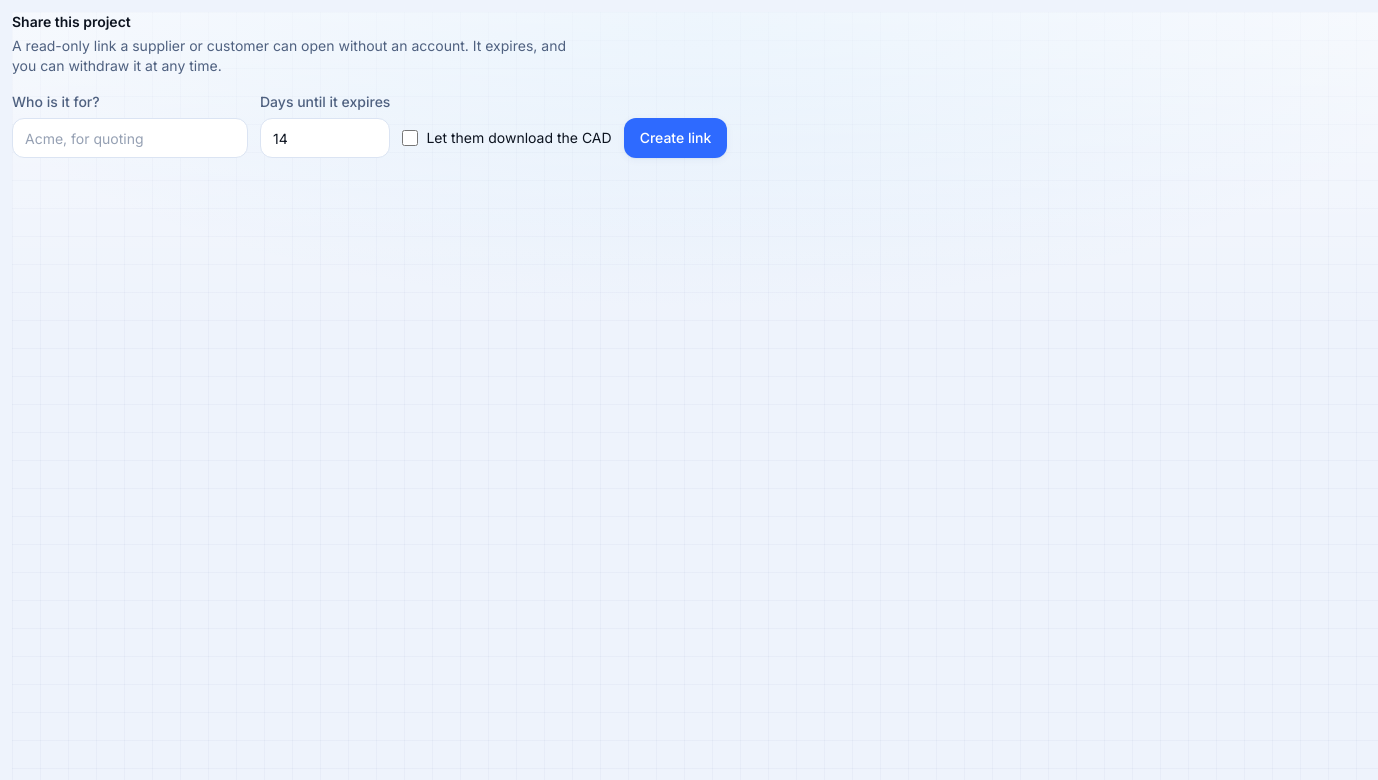
Test: SharePanel › shows the issued link and says it cannot be shown again
The width and height of the screenshot is (1378, 780).
Click the button "Create link".
click(675, 138)  # box x1=624 y1=118 x2=727 y2=158
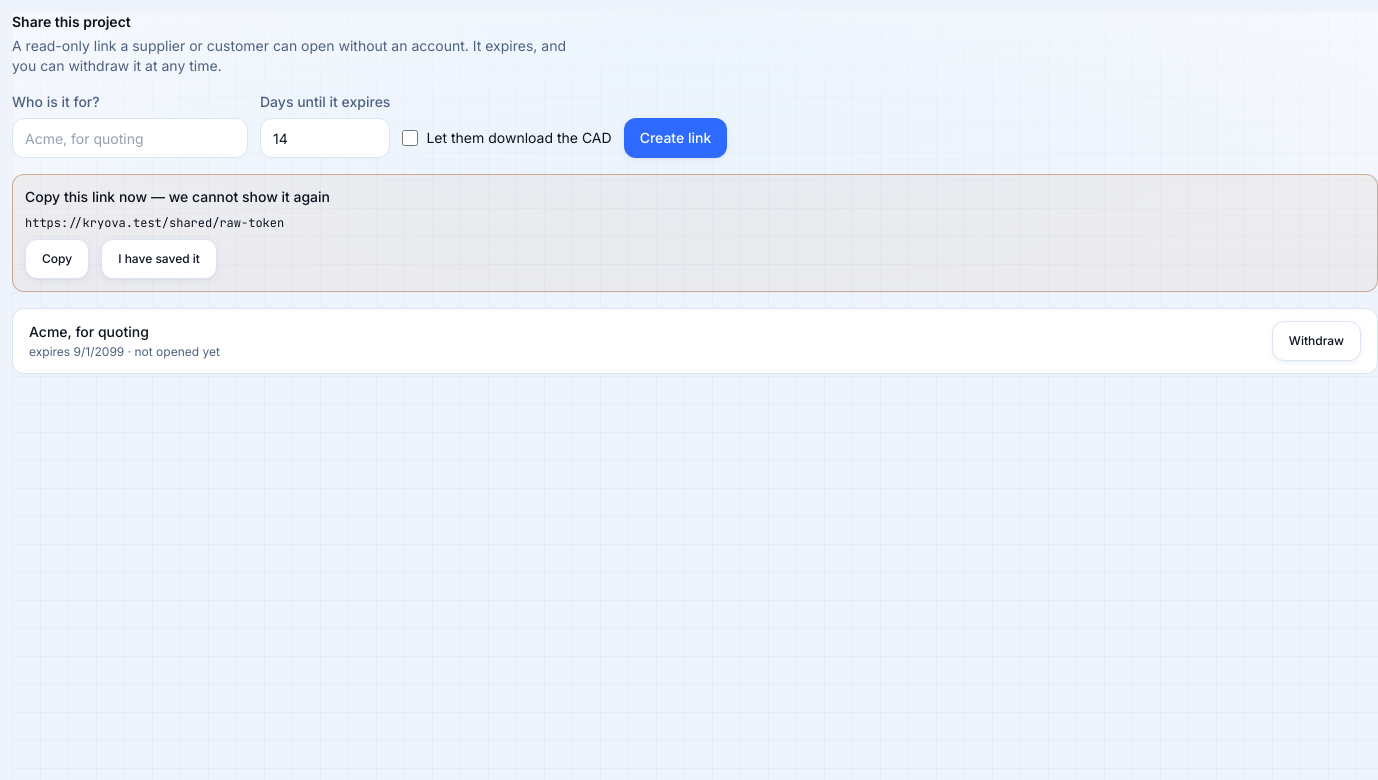
Now the text "https://kryova.test/shared/raw-token" is shown, box x1=25 y1=215 x2=284 y2=231
Now the text "Copy this link now — we cannot show it again" is shown, box x1=25 y1=188 x2=330 y2=205
